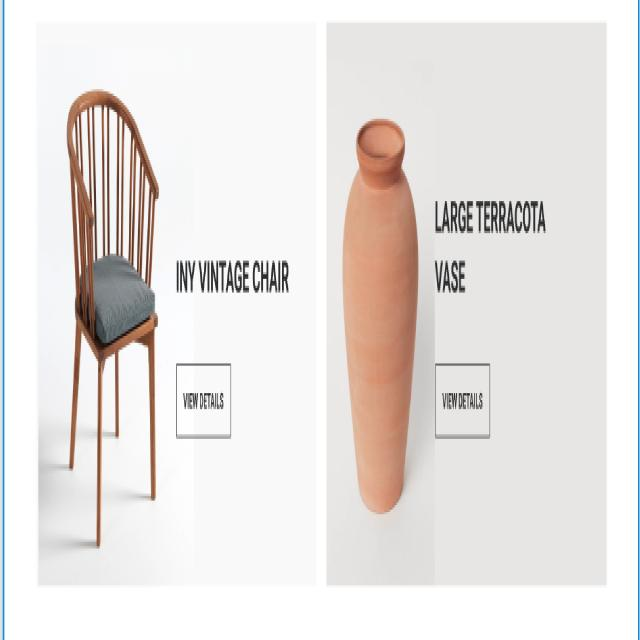CategoryTile: (325, 15, 608, 589), (35, 18, 318, 584)
ViewDetailsCategoryTiles: (434, 358, 492, 443), (175, 359, 232, 441)
